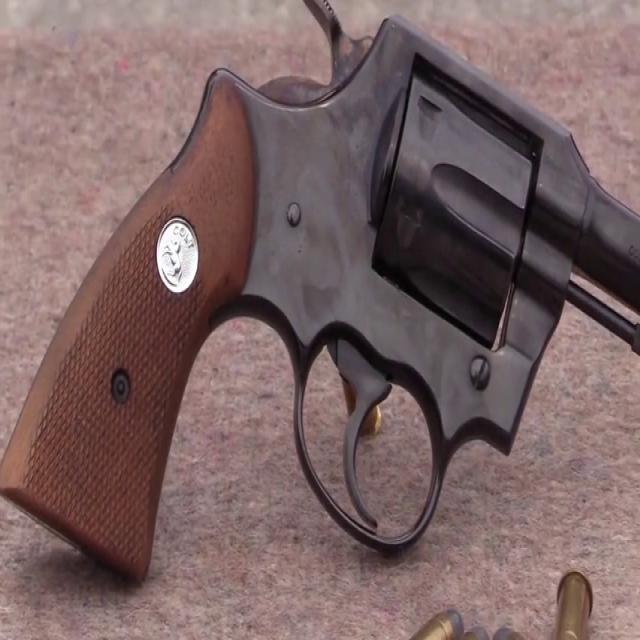gun-knife-thesis - v11 Yolov5 augmented: (3, 0, 640, 639)
